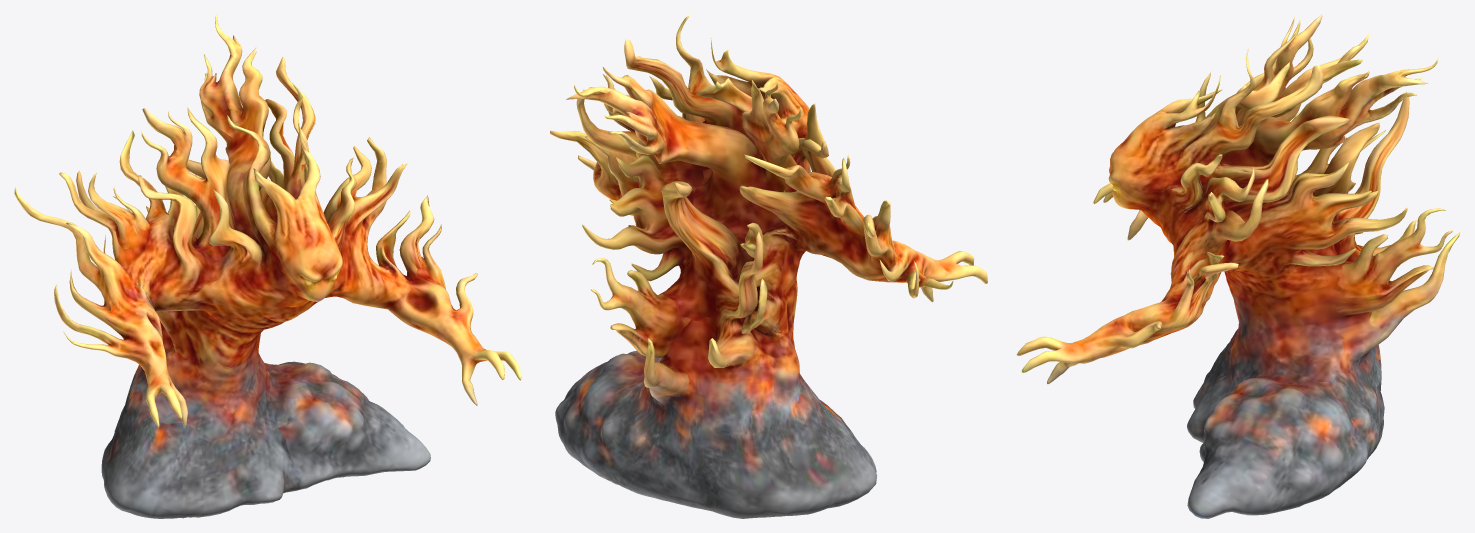
File: MZ4250 - Air Elemental_FireAlt_2025.glb
3 views of the same model, side by side, from view 1: azimuth 30°, elevation 25°; view 2: azimuth 150°, elevation 25°; view 3: azimuth 270°, elevation 25° (orthographic). The views are drawn at different scales.
Visible parts, largest first — view 1: ORGANIC BASE SPHERE.001; view 2: ORGANIC BASE SPHERE.001; view 3: ORGANIC BASE SPHERE.001.
Boxes of the visible parts, x1=… form: ORGANIC BASE SPHERE.001: x1=14, y1=14, x2=521, y2=518; ORGANIC BASE SPHERE.001: x1=550, y1=14, x2=987, y2=518; ORGANIC BASE SPHERE.001: x1=1016, y1=14, x2=1460, y2=518.
Bounding box in the file's own units: 160 × 161 × 154.
1 material, 1 textured.
